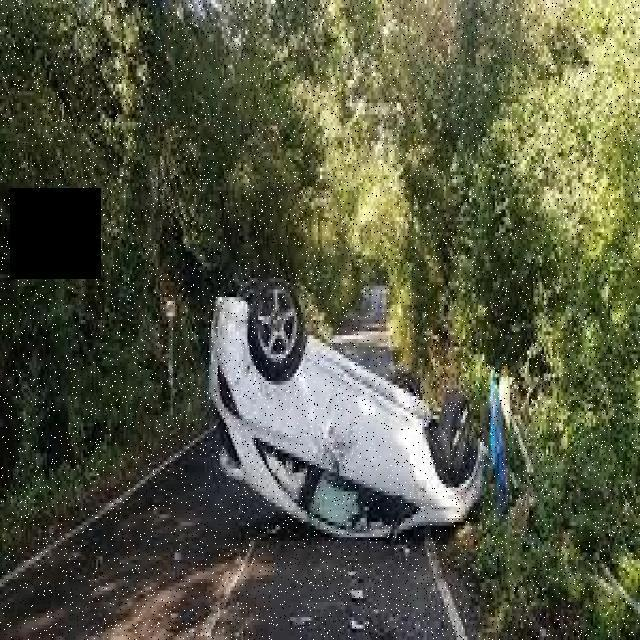single accident: (160, 257, 544, 583)
